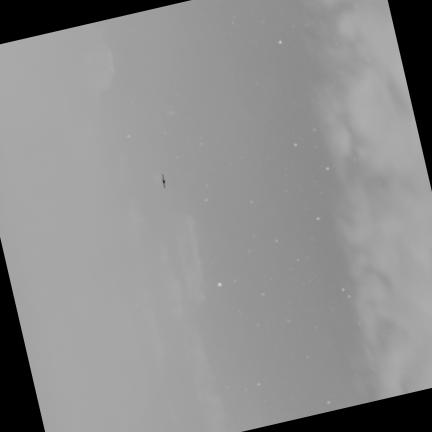Shahed: (161, 174, 165, 188)
